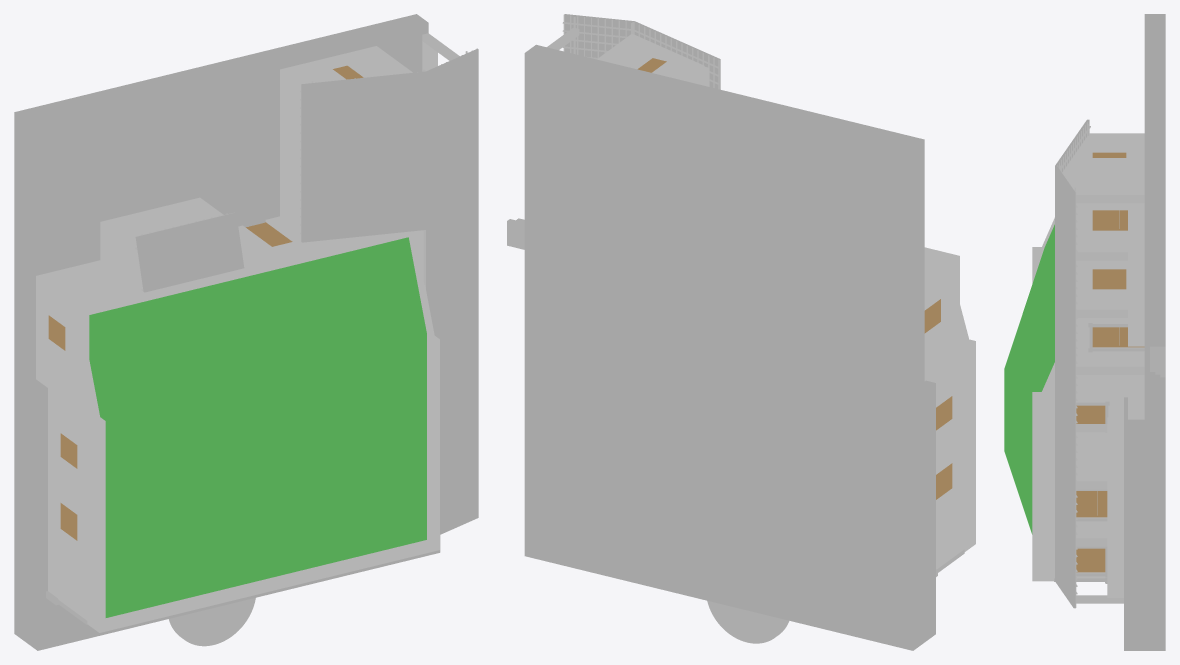
Rendered from RIBEIRO.glb.
3 renders of one model, left to right at view 1: azimuth 30°, elevation 25°; view 2: azimuth 150°, elevation 25°; view 3: azimuth 270°, elevation 25°, orthographic. The views are drawn at different scales.
Visible parts, largest first — view 1: MP-SJM-2026-0066, Basic Roof:DfD_Tile_Colonial_SJM_1820_Covering_CapaCanal:638 (×2), MP-SJM-2026-0065, MP-SJM-2026-0032, MP-SJM-2026-0092, MP-SJM-2026-0093, MP-SJM-2026-0043, MP-SJM-2026-0045, Basic Roof:DfD_Tile_Colonial_SJM_1820_Covering_CapaCanal:642, MP-SJM-2026-0055, MP-SJM-2026-0062, MP-SJM-2026-0049 (+6 smaller); view 2: MP-SJM-2026-0032, MP-SJM-2026-0031, MP-SJM-2026-0093, MP-SJM-2026-0092, MP-SJM-2026-0043, MP-SJM-2026-0055, Basic Roof:DfD_Tile_Colonial_SJM_1820_Covering_CapaCanal:638 (×2), MP-SJM-2026-0050, MP-SJM-2026-0098, MP-SJM-2026-0045; view 3: MP-SJM-2026-0093, Basic Roof:DfD_Tile_Colonial_SJM_1820_Covering_CapaCanal:638 (×2), MP-SJM-2026-0092, MP-SJM-2026-0056, MP-SJM-2026-0053, MP-SJM-2026-0066, MP-SJM-2026-0050, MP-SJM-2026-0061, MP-SJM-2026-0044, MP-SJM-2026-0065, Walls 1:Walls 1:626570, MP-SJM-2026-0004 (+16 smaller).
Part boxes in pixels (box(x1,y1,x2,y2)): MP-SJM-2026-0066: box(99, 332, 426, 617); Basic Roof:DfD_Tile_Colonial_SJM_1820_Covering_CapaCanal:638 (×2): box(301, 48, 478, 534); MP-SJM-2026-0065: box(89, 237, 426, 412); MP-SJM-2026-0032: box(36, 69, 279, 275); MP-SJM-2026-0092: box(14, 14, 428, 381); MP-SJM-2026-0093: box(14, 373, 440, 650); MP-SJM-2026-0043: box(48, 385, 105, 626); MP-SJM-2026-0045: box(36, 216, 417, 316); Basic Roof:DfD_Tile_Colonial_SJM_1820_Covering_CapaCanal:642: box(135, 213, 244, 292); MP-SJM-2026-0055: box(36, 282, 99, 418); MP-SJM-2026-0062: box(48, 540, 439, 632); MP-SJM-2026-0049: box(280, 68, 306, 231); MP-SJM-2026-0032: box(574, 75, 903, 396); MP-SJM-2026-0031: box(574, 317, 903, 596); MP-SJM-2026-0093: box(524, 305, 935, 650); MP-SJM-2026-0092: box(524, 44, 924, 399); MP-SJM-2026-0043: box(926, 339, 975, 566); MP-SJM-2026-0055: box(924, 262, 970, 380); Basic Roof:DfD_Tile_Colonial_SJM_1820_Covering_CapaCanal:638 (×2): box(564, 14, 720, 89); MP-SJM-2026-0050: box(597, 34, 704, 80); MP-SJM-2026-0098: box(707, 600, 789, 643); MP-SJM-2026-0045: box(924, 247, 959, 287); MP-SJM-2026-0093: box(1124, 397, 1165, 650); Basic Roof:DfD_Tile_Colonial_SJM_1820_Covering_CapaCanal:638 (×2): box(1055, 119, 1088, 608); MP-SJM-2026-0092: box(1144, 14, 1165, 419); MP-SJM-2026-0056: box(1041, 181, 1144, 397); MP-SJM-2026-0053: box(1032, 392, 1123, 575); MP-SJM-2026-0066: box(1004, 247, 1044, 534); MP-SJM-2026-0050: box(1062, 136, 1144, 180); MP-SJM-2026-0061: box(1107, 417, 1123, 597); MP-SJM-2026-0044: box(1128, 203, 1144, 346); MP-SJM-2026-0065: box(1045, 224, 1054, 383); Walls 1:Walls 1:626570: box(1054, 323, 1144, 583); MP-SJM-2026-0004: box(1076, 491, 1107, 517).
Size of the model in its own units: 20.69 by 26.6 by 7.73.
